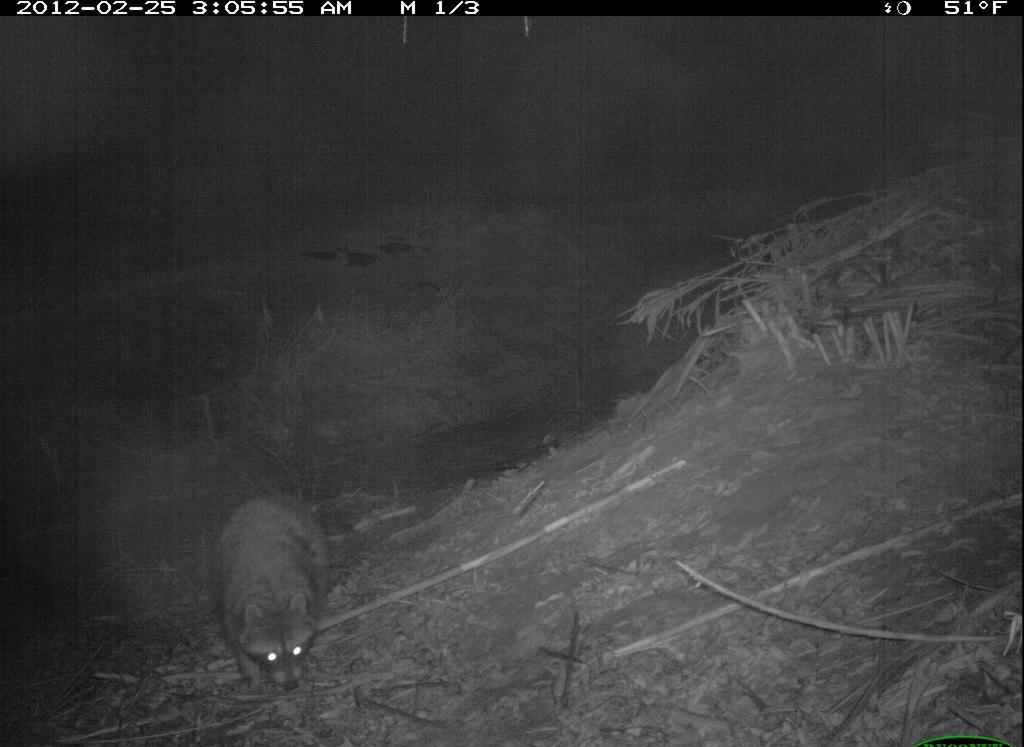raccoon: (204, 486, 344, 702)
